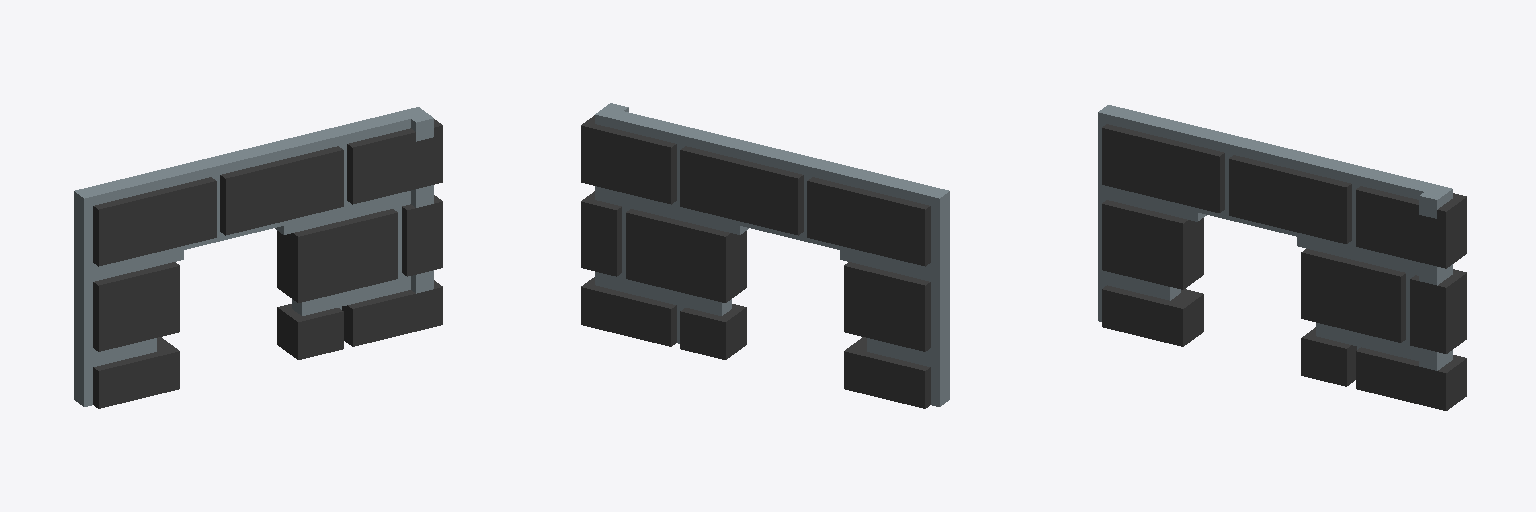
The picture shows the model from 3 angles: view 1: azimuth 30°, elevation 25°; view 2: azimuth 150°, elevation 25°; view 3: azimuth 330°, elevation 25°; orthographic projection.
Parts seen in each view (by area): view 1: object 1; view 2: object 1; view 3: object 1.
Boxes of the visible parts, x1=… form: object 1: x1=74, y1=107, x2=442, y2=408; object 1: x1=581, y1=103, x2=949, y2=408; object 1: x1=1098, y1=105, x2=1466, y2=410.
Bounding box in the file's own units: 3.9 × 2.2 × 0.4.
Materials: 1 (1 with a texture image).